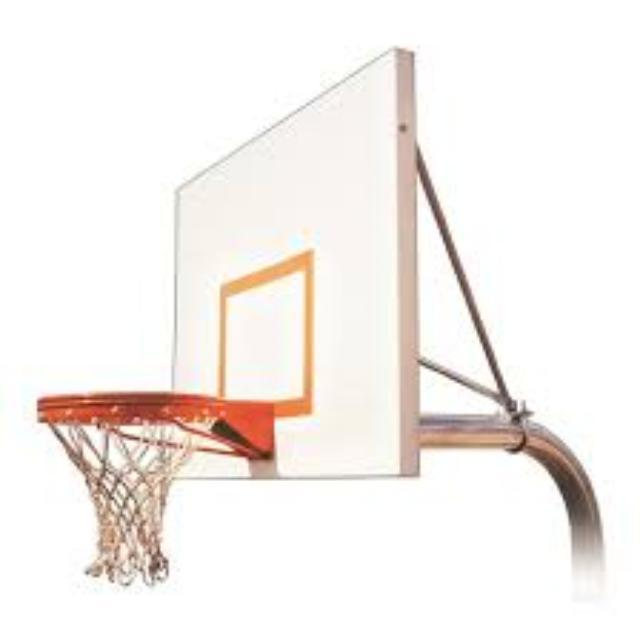rim: (40, 392, 222, 586)
